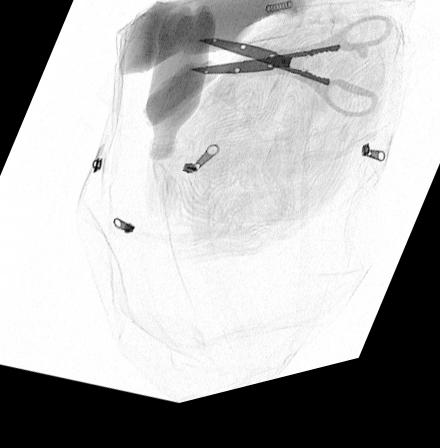Scissors: (187, 32, 391, 134)
